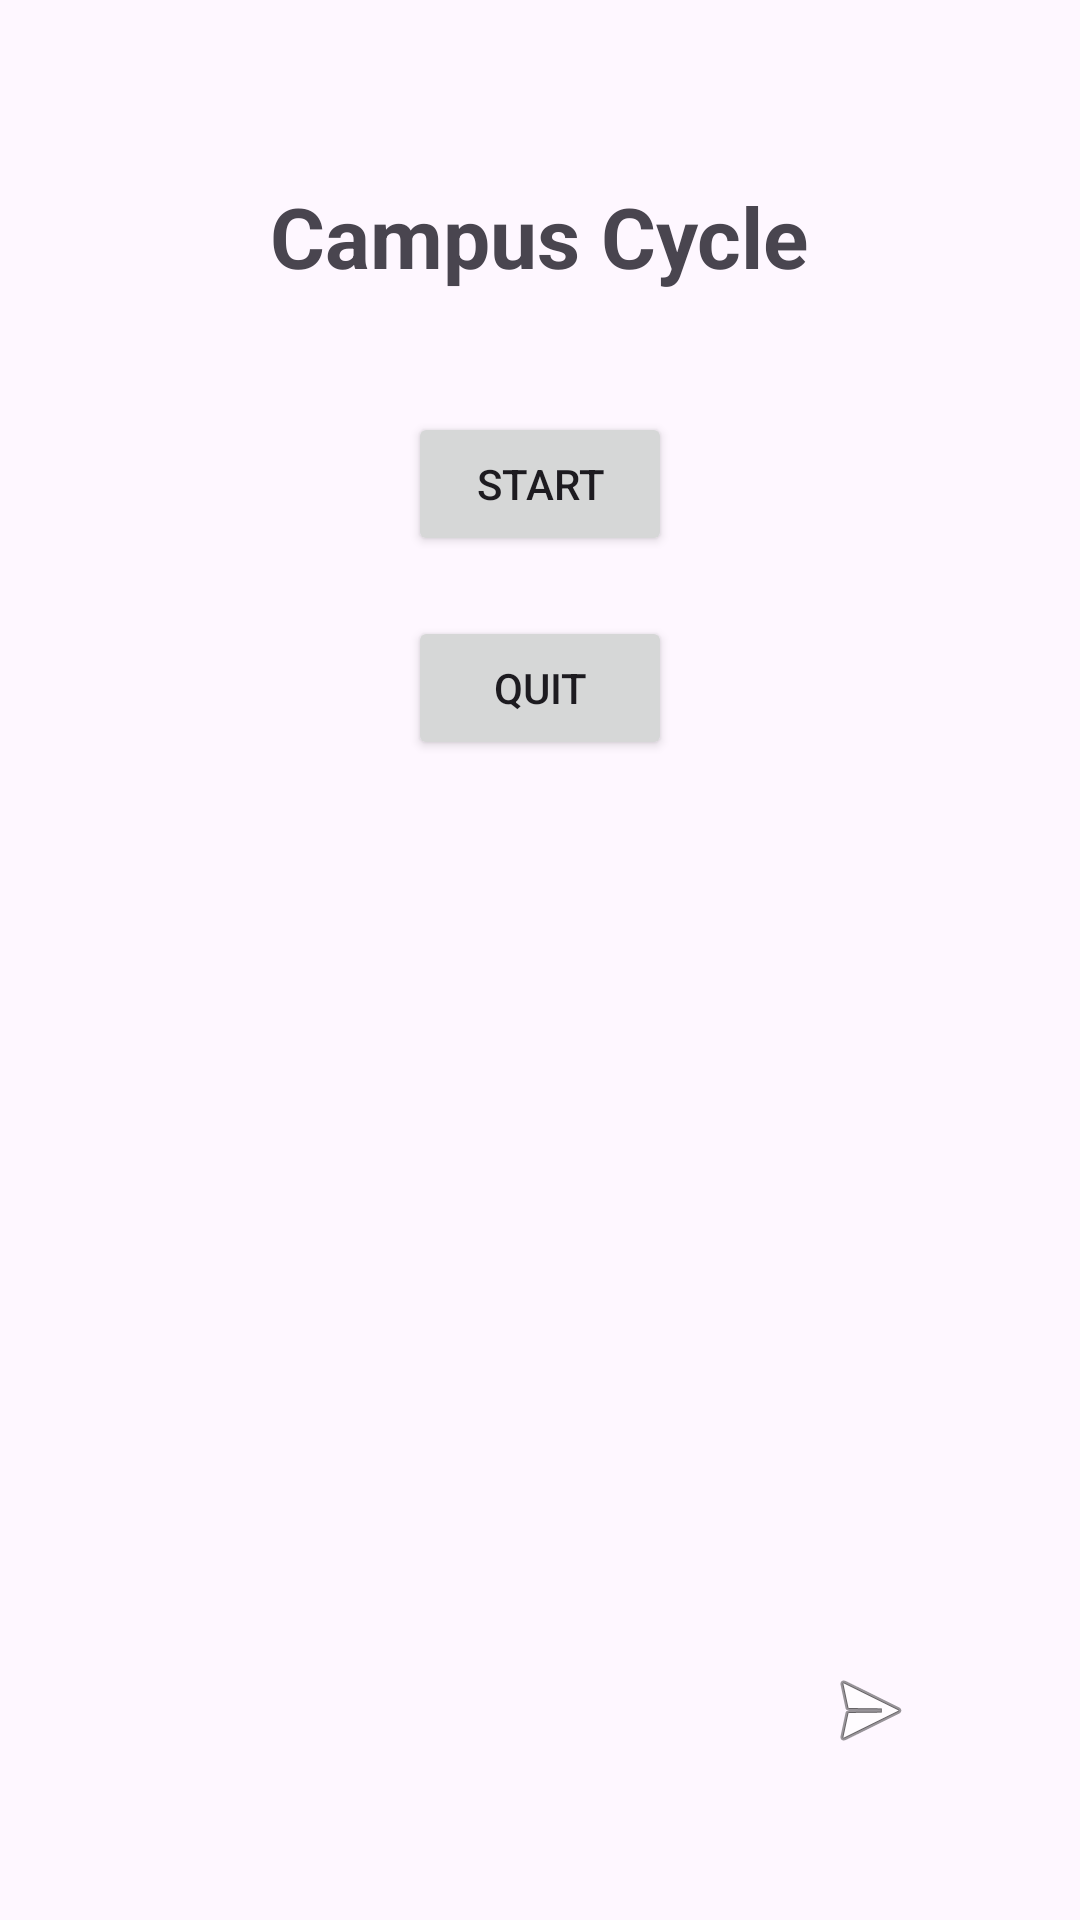

Where to tap for icons on this 1080px x 1920px app screen, as (x=x, y=y):
Share Feedback: (x=871, y=1710)
